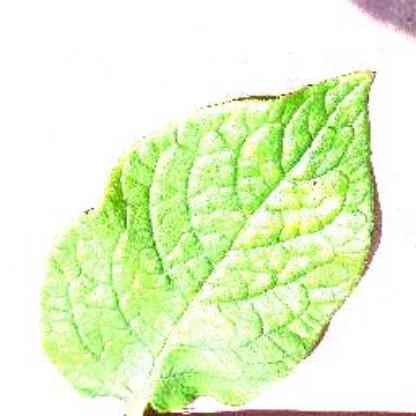Healthy-plant: (32, 27, 382, 415)
